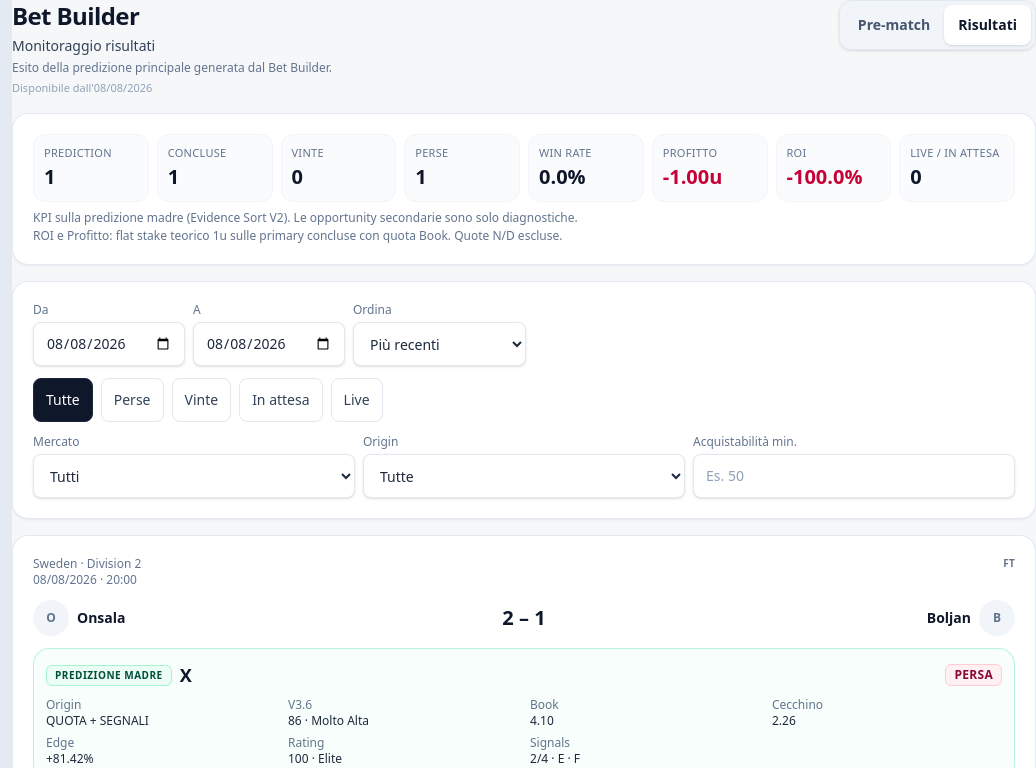
it: BetBuilderPage Results BET-RESULTS-01 › 21. ritorno Pre-match
Expected: the element with test id "bet-builder-results-summary" is shown, [12,112,1035,265]
Click the tab with test id "bet-builder-view-prematch".
click(894, 25)  # box [844,5,944,45]
(page scrolled)
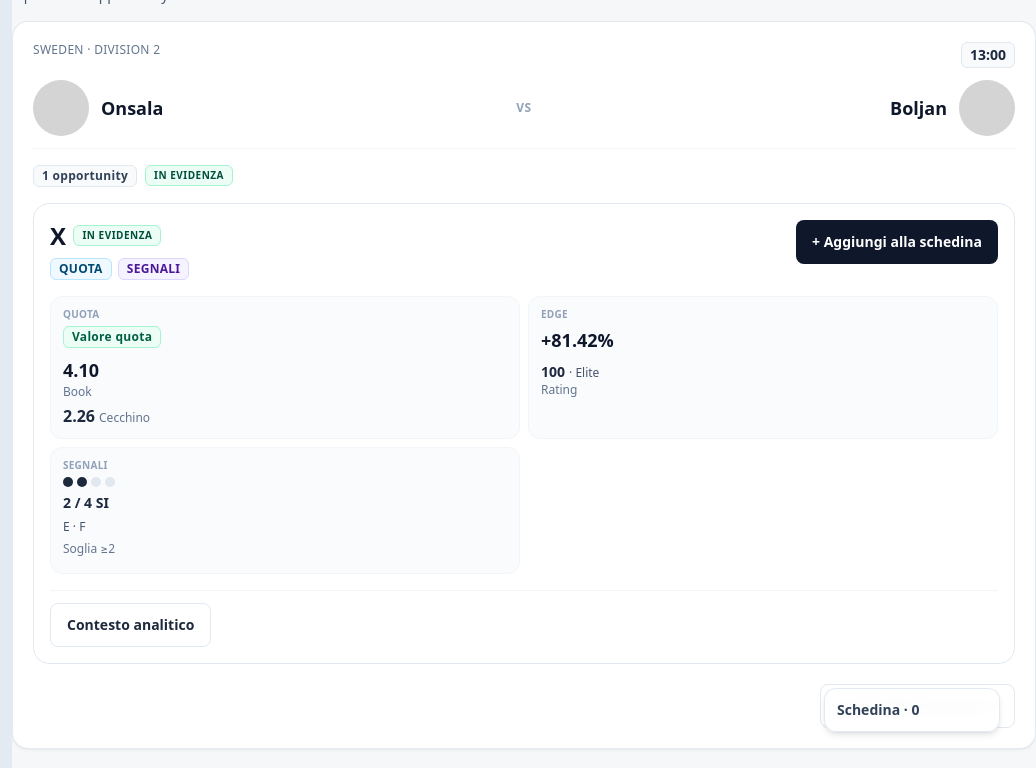
Expected: the element with test id "bet-builder-cards" is shown
